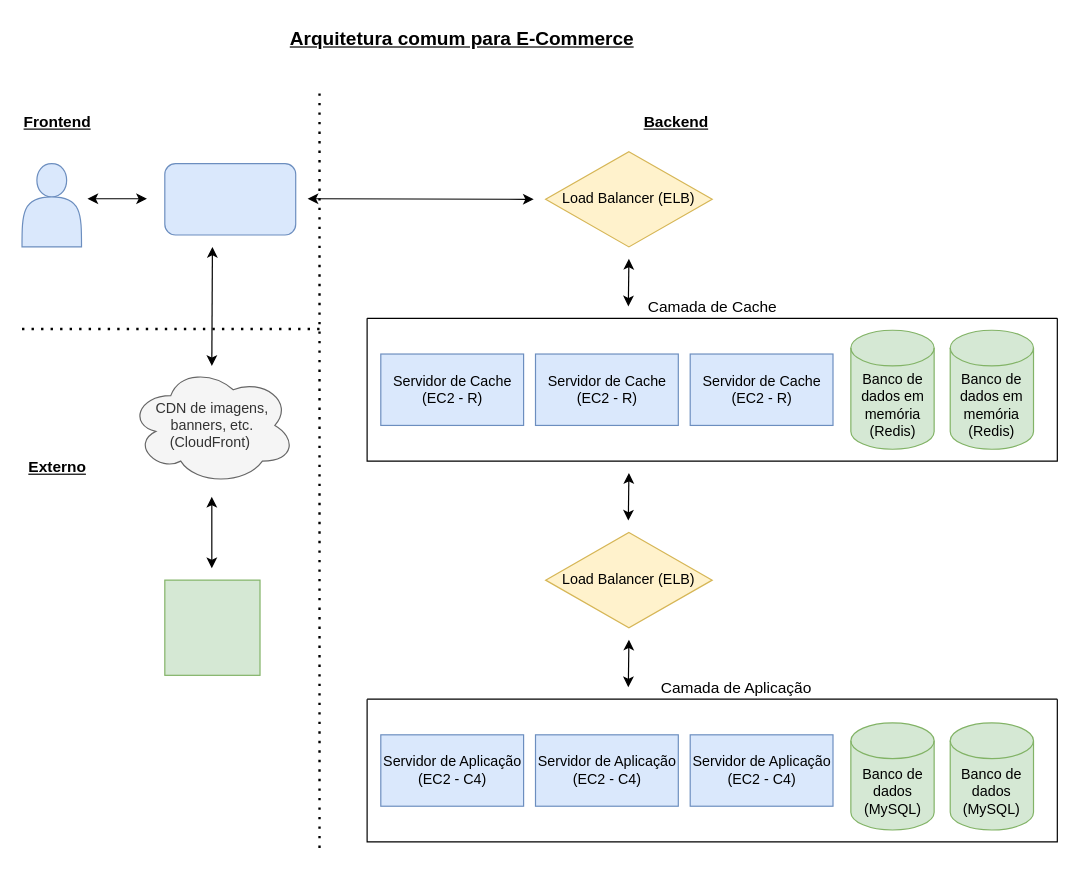
Image size: 1078x870. Some labels were removed from this diagram. The shapes that lost their labels are listed below. From the top down, each one's centre as x and y in pixels, then its label:
At point 51,204: "Cliente".
At point 230,198: "E-commerce".
At point 212,627: "Origem do conteúdo (S3)".
